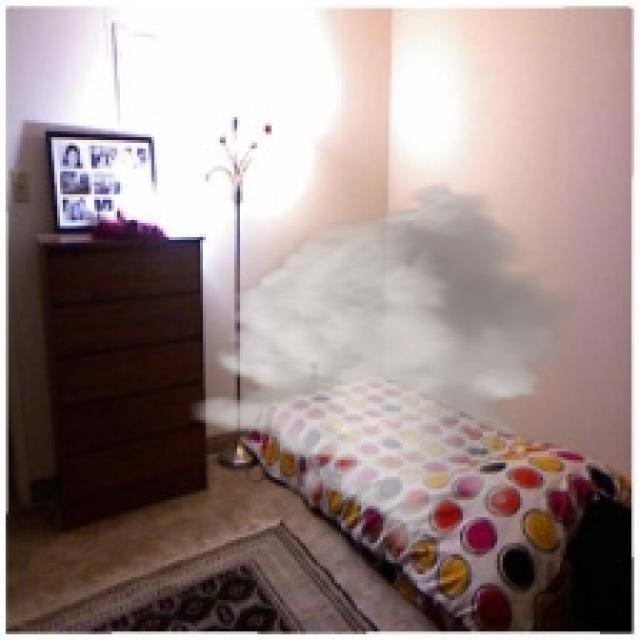Smoke: (185, 179, 586, 552)
